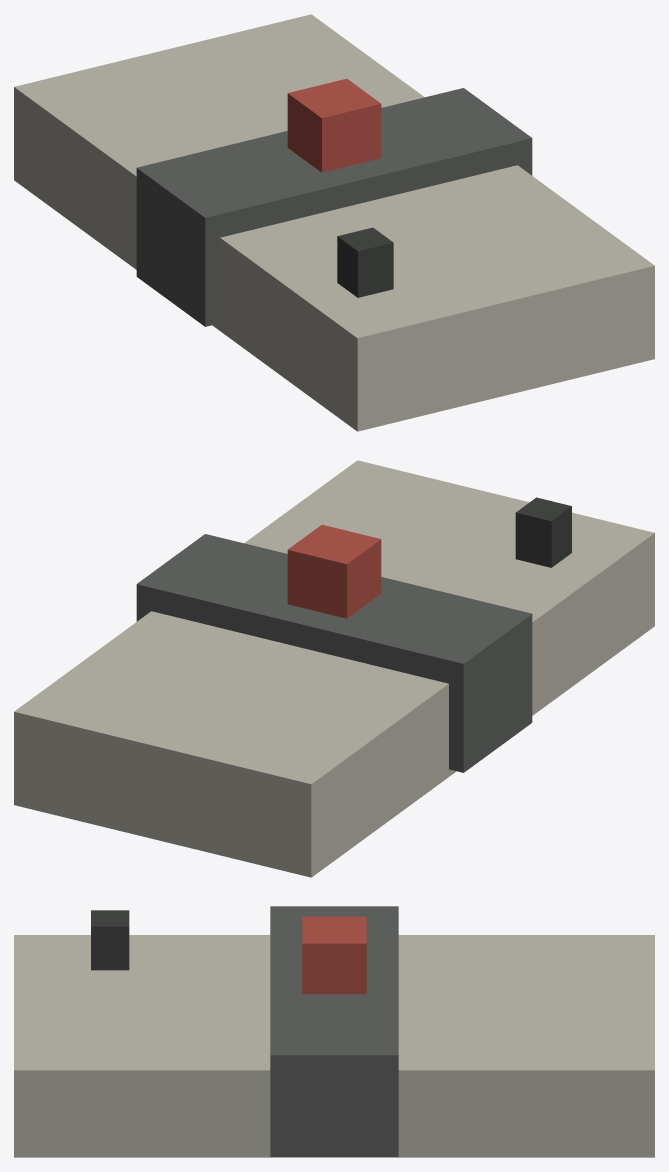
The picture shows the model from 3 angles, top to bottom: view 1: azimuth 30°, elevation 25°; view 2: azimuth 150°, elevation 25°; view 3: azimuth 270°, elevation 25°; orthographic projection. The views are drawn at different scales.
Visible parts, largest first — view 1: body; view 2: body; view 3: body.
Part boxes in pixels (left/top/right/bottom): body: left=14, top=14, right=654, bottom=431; body: left=14, top=460, right=654, bottom=877; body: left=14, top=906, right=654, bottom=1157.
Size of the model in its own units: 0.11 by 0.055 by 0.2.
